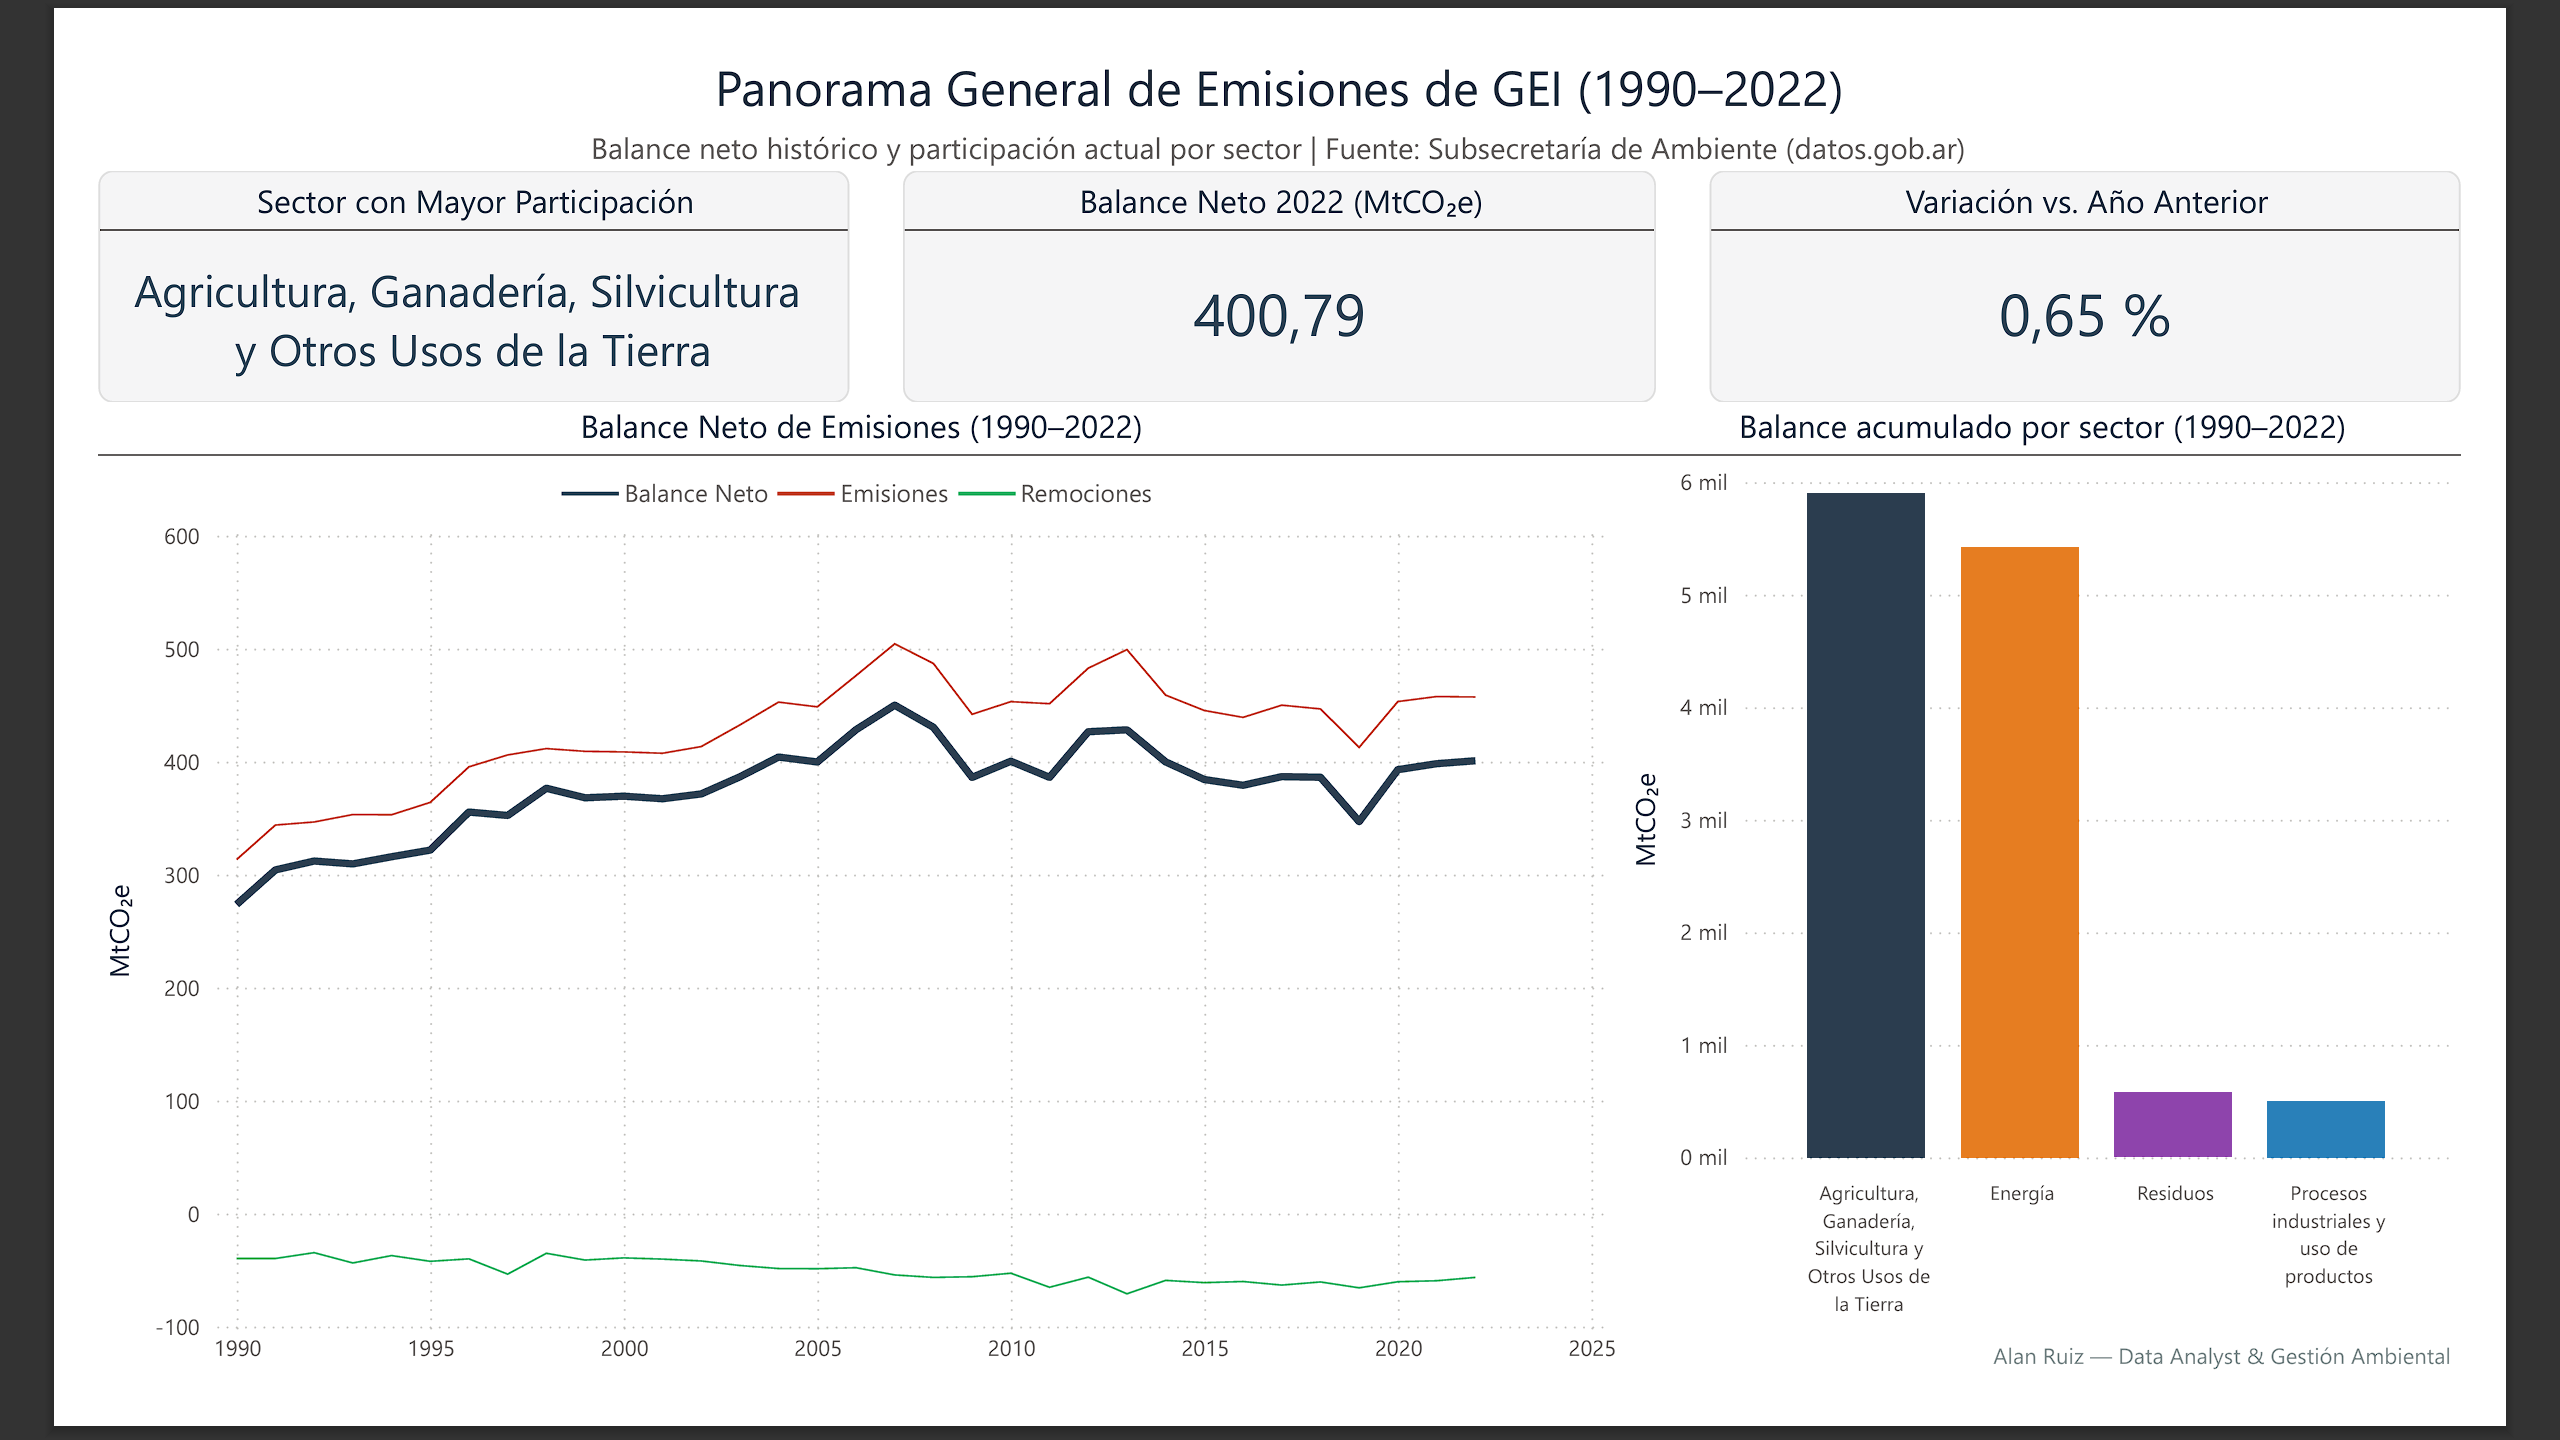

Layout of this report page (visuals, bound fields, positions):
{"tool":"powerbi","page":{"name":"Panorama General","canvas":[1280,720],"ordinal":0},"visuals":[{"type":"card","title":"Balance Neto 2022 (MtCO₂e)","fields":{"Values":["5- Balance_anual.Balance Neto Actual"]},"box":[436.5,64.1,407,126.3],"z":0},{"type":"card","title":"Variación vs. Año Anterior","fields":{"Values":["5- Balance_anual.Variacion Interanual %"]},"box":[873,64.1,407,126.3],"z":1000},{"type":"card","title":"Sector con Mayor Participación","fields":{"Values":["9- Totales_sector.Sector Lider"]},"box":[0,64.1,407,126.3],"z":2000},{"type":"lineChart","title":"Balance Neto de Emisiones (1990–2022)","fields":{"Category":["5- Balance_anual.anio"],"Y":["Sum(5- Balance_anual.balance_neto)","Sum(5- Balance_anual.emisiones)","Sum(5- Balance_anual.remociones)"]},"box":[0,190.4,826.5,529.4],"z":3000},{"type":"columnChart","title":"Balance acumulado por sector (1990–2022)","fields":{"Category":["9- Totales_sector.sector"],"Y":["Sum(9- Totales_sector.total_tco2e)"]},"box":[826.5,190.4,453.5,501.3],"z":4000},{"type":"textbox","title":"Panorama General de Emisiones de GEI (1990–2022)","box":[0,0,1280,64.1],"z":5000},{"type":"textbox","box":[1013.7,691.7,266.3,28.1],"z":6000}]}

Visuals, with their boxes in screenshot pixels (x1, y1, x2, y2), scaled from the page's 1280x720 canvas onto the 2560x1440 screenshot:
"Balance Neto 2022 (MtCO₂e)" card: locate(873, 128, 1687, 381)
"Variación vs. Año Anterior" card: locate(1746, 128, 2559, 381)
"Sector con Mayor Participación" card: locate(0, 128, 814, 381)
"Balance Neto de Emisiones (1990–2022)" lineChart: locate(0, 381, 1653, 1439)
"Balance acumulado por sector (1990–2022)" columnChart: locate(1653, 381, 2559, 1383)
"Panorama General de Emisiones de GEI (1990–2022)" textbox: locate(0, 0, 2559, 128)
textbox: locate(2027, 1383, 2559, 1439)
